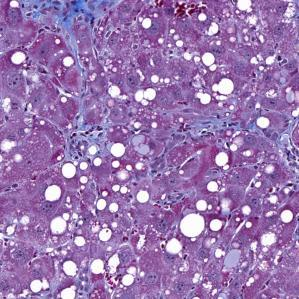fibrosis: (23, 2, 122, 44), (60, 111, 115, 162)
